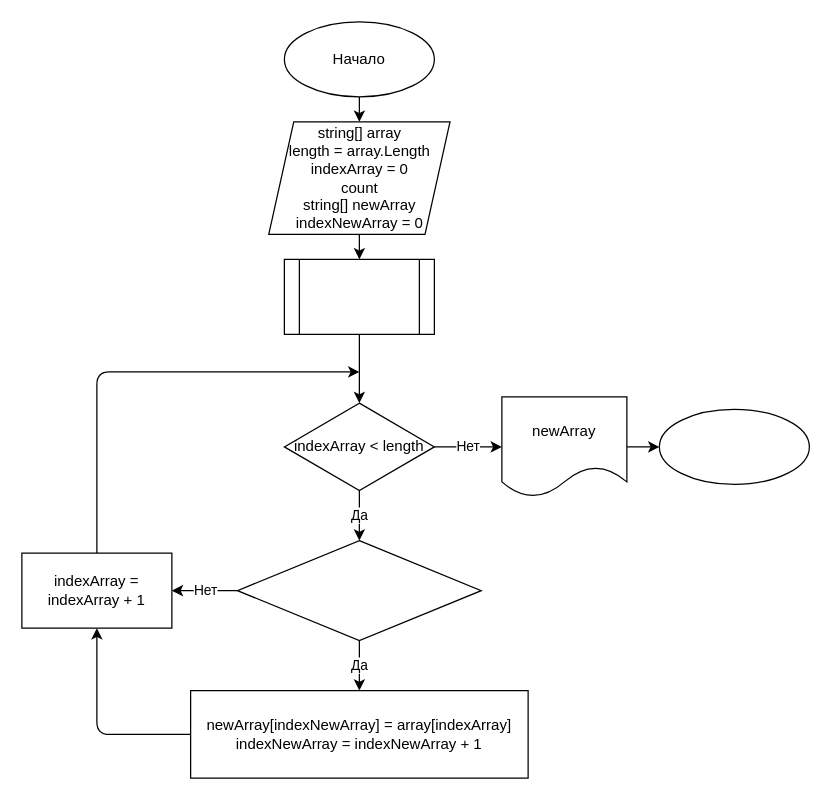
The diagram is 831 pixels wide and 800 high, and some of its shapes have lost their labels. Here are the shapes that lost their labels. From the top down, the centre of each, then its label:
At (358,296): "Подсчет количества подходящих строк".
At (733,446): "Конец".
At (358,590): "array[indexArray].Length <= 3".
